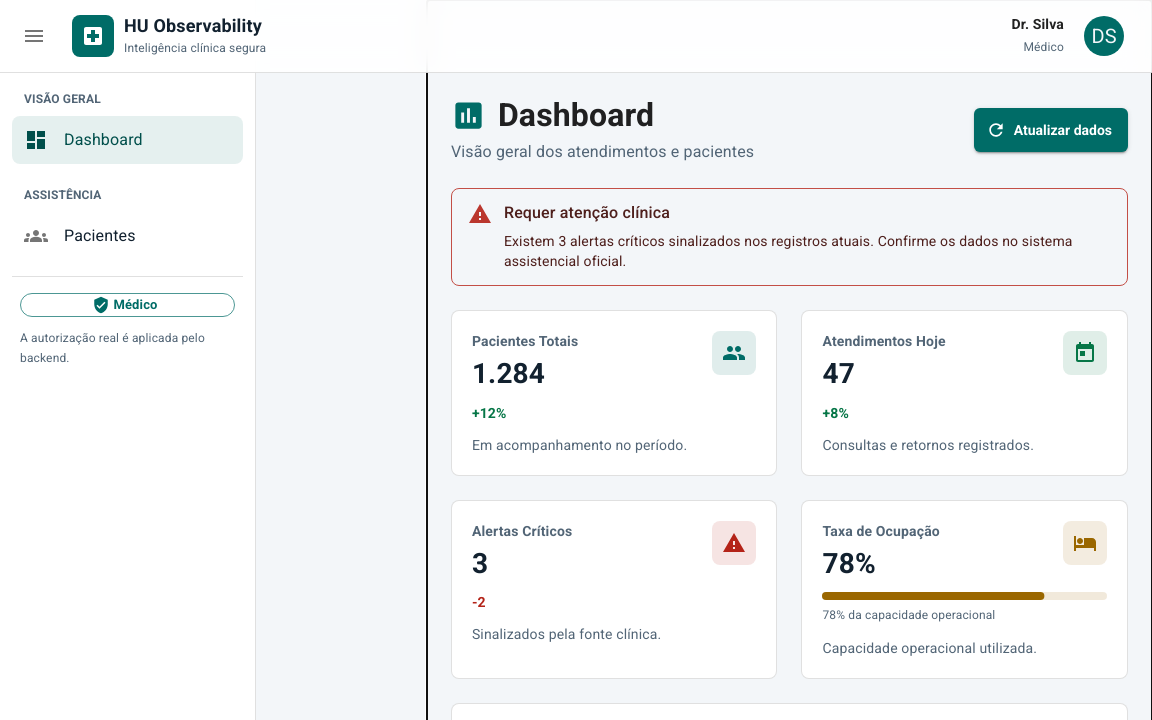
it: AppRoutes › opens the user menu with profile and logout actions
Expected: the heading "Dashboard" is shown, [498,96,654,134]
Step 1. Click the button with aria-label "Abrir menu do usuário" → (1104, 36), box [1080,12,1128,60]
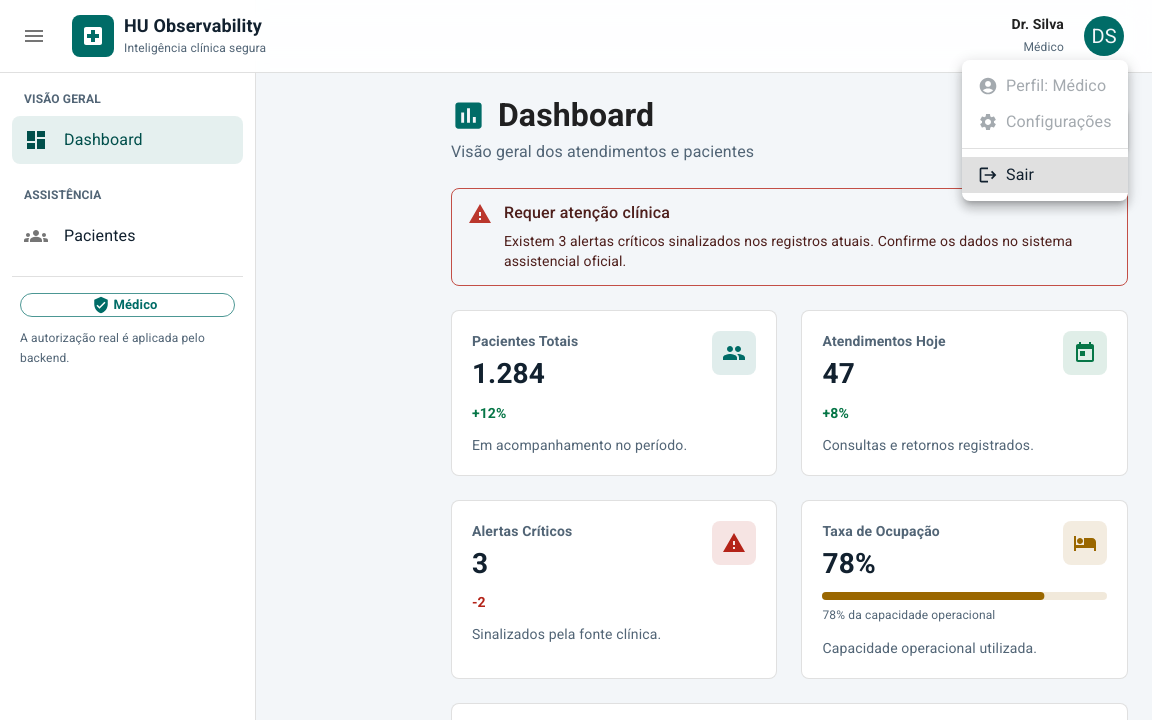
Expected: the menu item "Perfil: Médico" is shown, [978,76,1106,96]
Expected: the menu item "Configurações" is shown, [978,112,1112,132]
Expected: the menu item "Sair" is shown, [962,157,1128,193]
